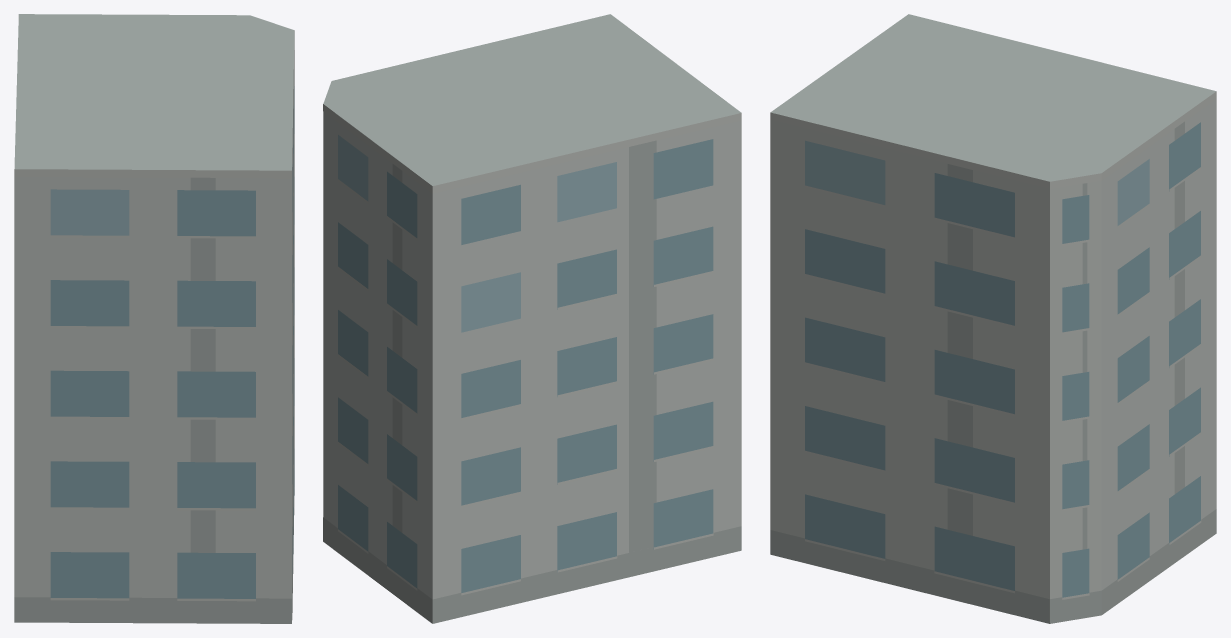
File: survey-upis-32998378.glb
3 views of the same model, side by side, from view 1: azimuth 30°, elevation 25°; view 2: azimuth 150°, elevation 25°; view 3: azimuth 270°, elevation 25° (orthographic). The views are drawn at different scales.
Parts seen in each view (by area): view 1: survey-upis-32998378.tmp; view 2: survey-upis-32998378.tmp; view 3: survey-upis-32998378.tmp.
Boxes of the visible parts, left/top/right/bottom form: survey-upis-32998378.tmp: left=14, top=14, right=294, bottom=623; survey-upis-32998378.tmp: left=323, top=14, right=741, bottom=623; survey-upis-32998378.tmp: left=770, top=14, right=1216, bottom=623.
Bounding box in the file's own units: 11.81 × 14.5 × 13.28.
